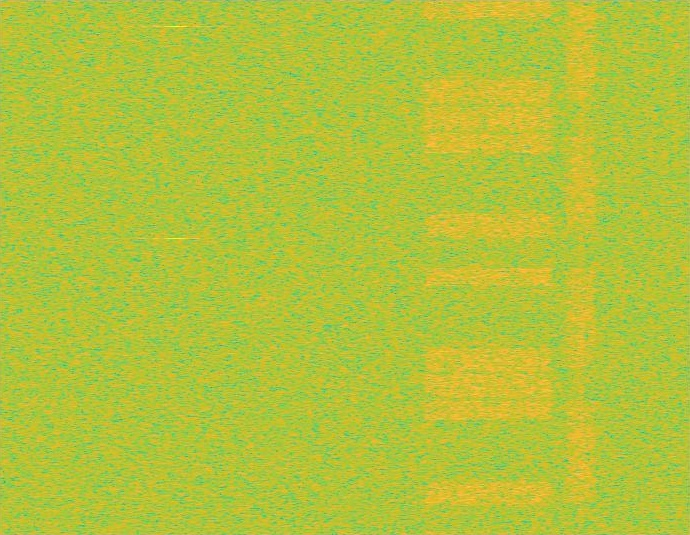5G: (564, 0, 598, 534)
DSSS: (579, 0, 583, 534)
LTE: (419, 0, 557, 534)
Radar: (170, 0, 183, 534)
